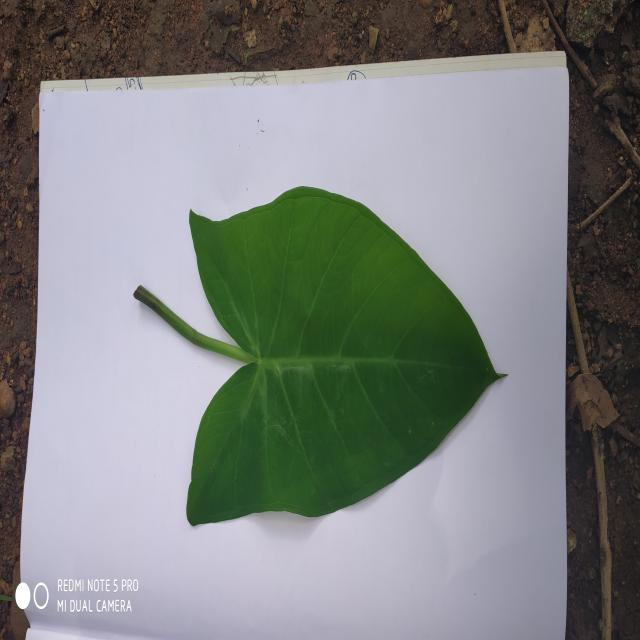taro: (135, 187, 500, 524)
